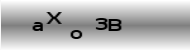3: (95, 17, 107, 31)
B: (107, 18, 122, 32)
X: (45, 10, 63, 25)
a: (32, 21, 44, 32)
o: (68, 29, 83, 39)
